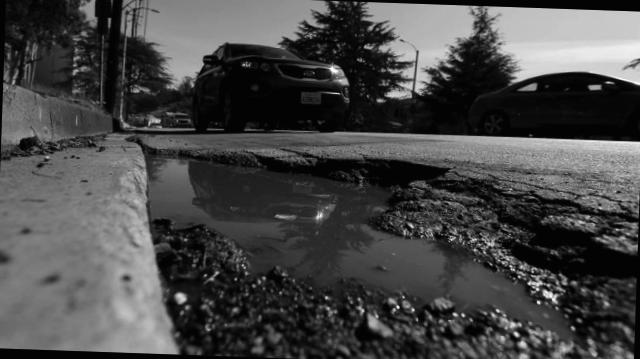Pothole: (125, 125, 640, 359)
